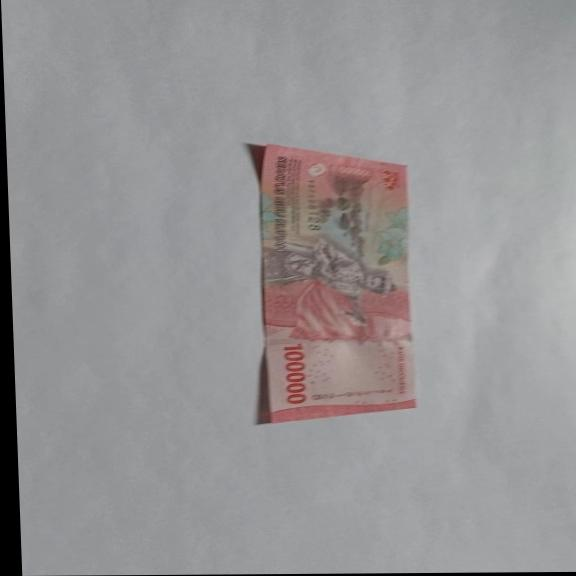Kertas: (244, 142, 421, 425), (281, 343, 309, 405)
